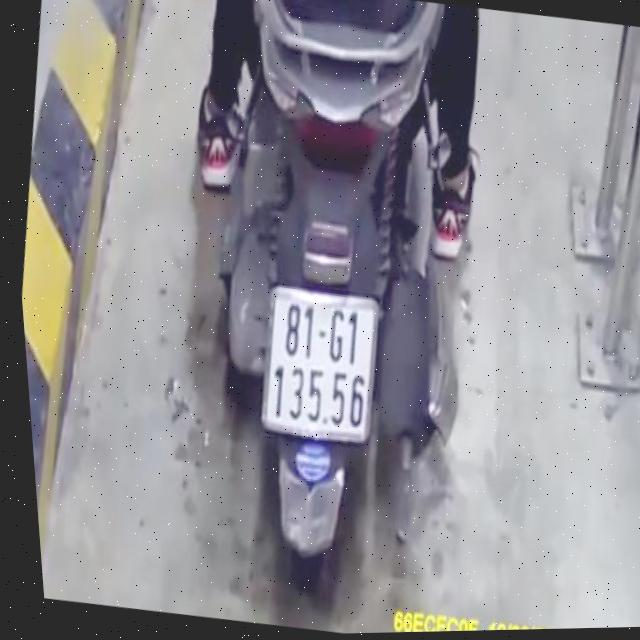motorcycle: (147, 0, 532, 634)
plate: (247, 281, 389, 449)
